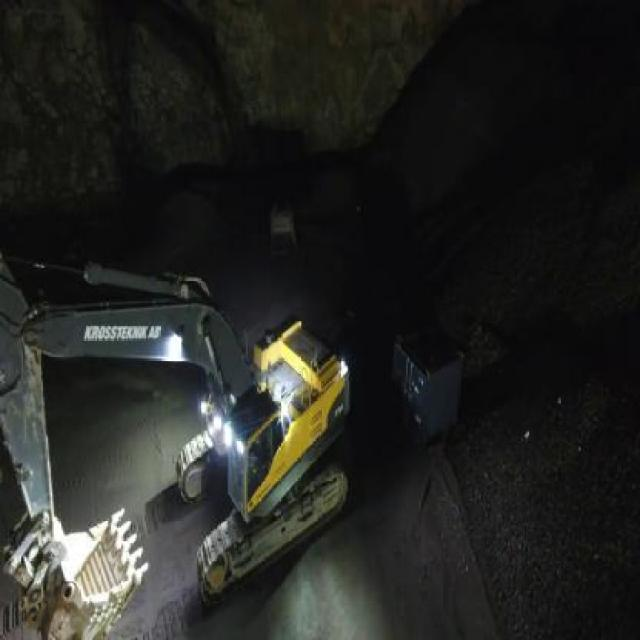Excavator: (0, 248, 352, 639)
